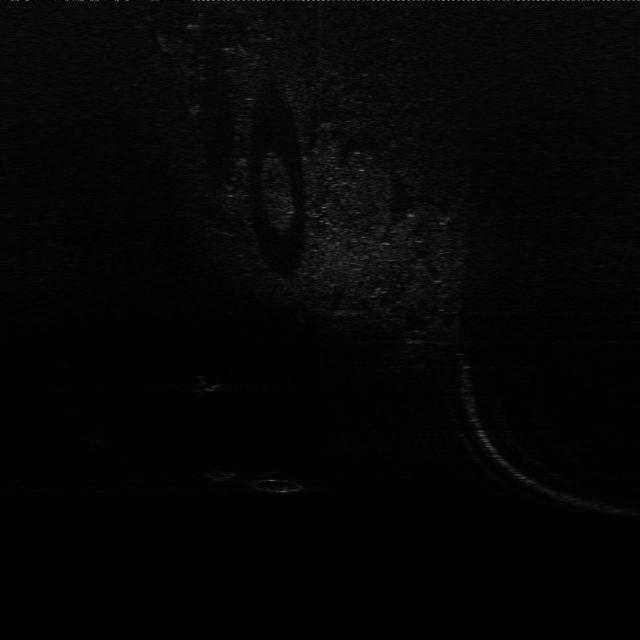cube: (200, 462, 240, 484)
square cage: (193, 370, 231, 395)
tyre: (252, 468, 307, 497)
